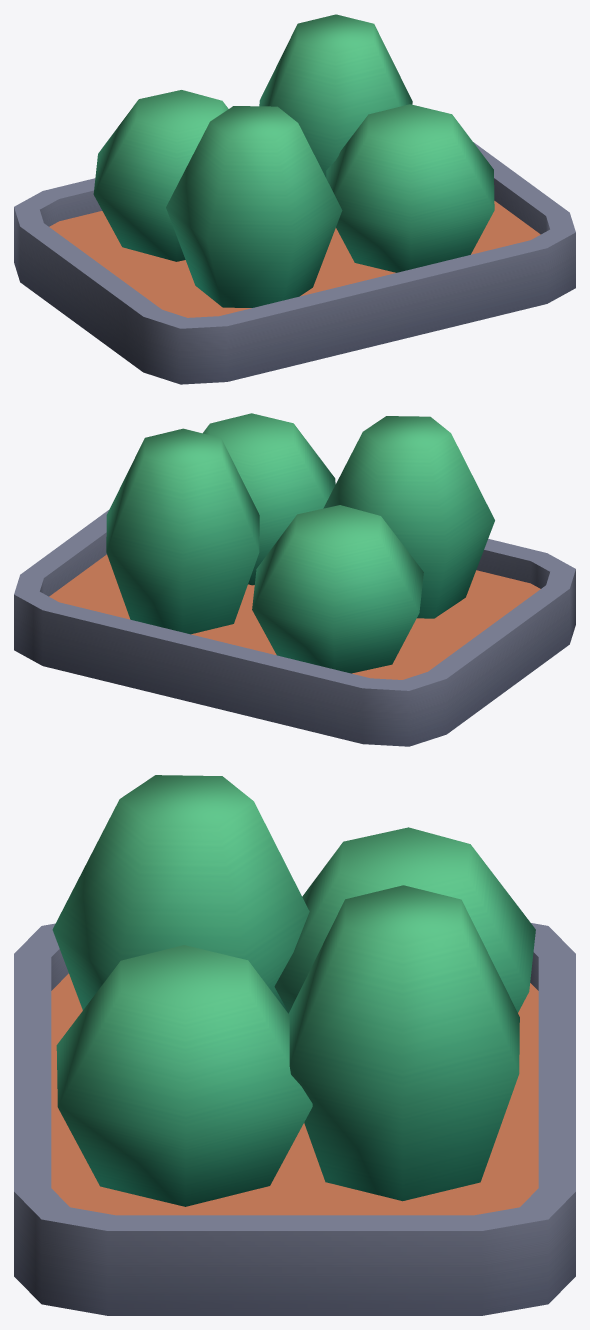
File: planter_0.fbx
3 renders of one model, top to bottom at view 1: azimuth 30°, elevation 25°; view 2: azimuth 150°, elevation 25°; view 3: azimuth 270°, elevation 25°, orthographic. The views are drawn at different scales.
Visible parts, largest first — view 1: planter_0; view 2: planter_0; view 3: planter_0.
Boxes of the visible parts, <box> form: planter_0: <box>14,14,575,384</box>; planter_0: <box>14,413,575,746</box>; planter_0: <box>14,775,575,1315</box>.
Bounding box in the file's own units: 0.4 × 0.1771 × 0.3.
1 material, 1 textured.
